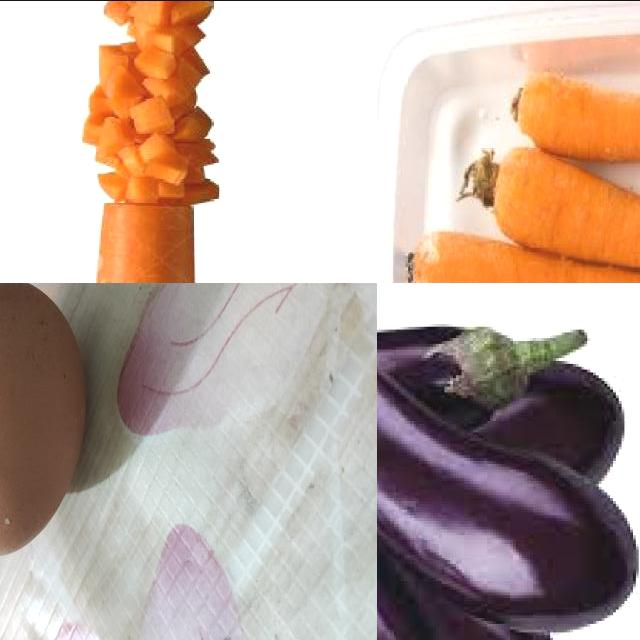carrot: (484, 141, 640, 283), (405, 222, 640, 283), (484, 76, 640, 162), (87, 202, 218, 283)
egg: (1, 283, 98, 562)
eggplant: (378, 350, 636, 633), (378, 330, 585, 482), (378, 436, 468, 640)
